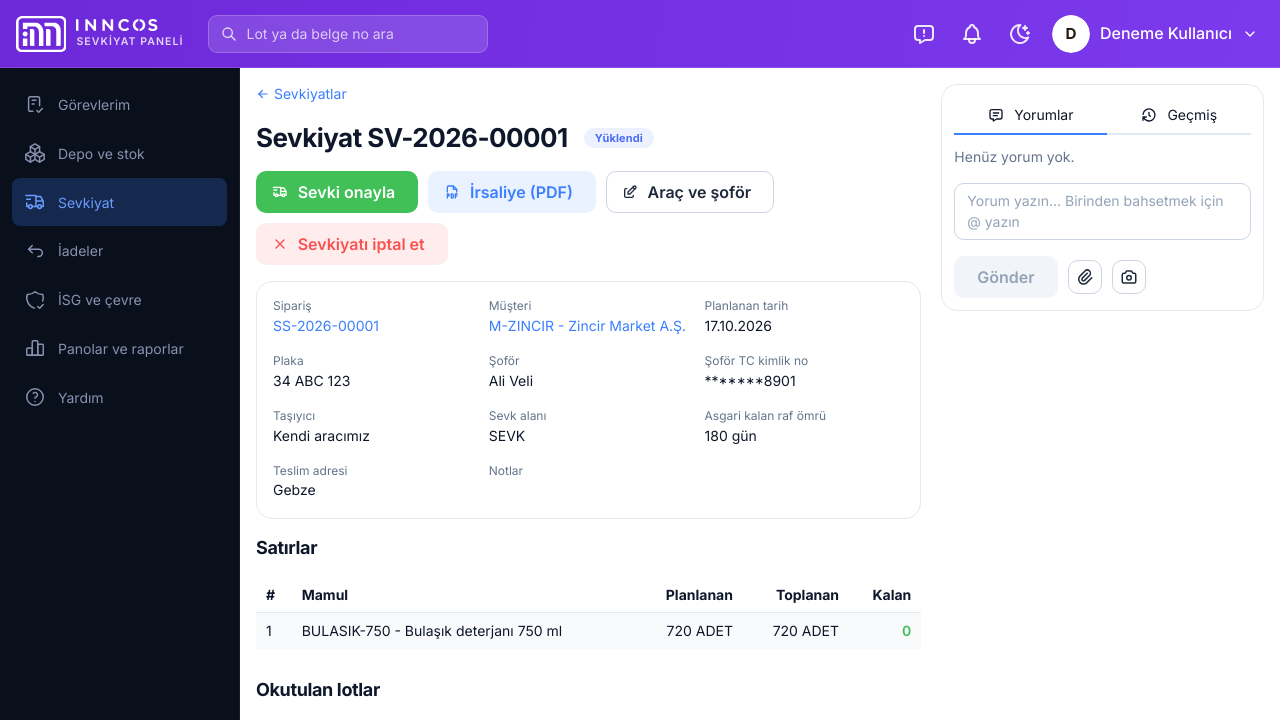
sevkiyat detayı › şoför TC no maskeli görünür; yüklenen sevkiyatı sevkiyat onaylar, irsaliye açılır
This screenshot has width=1280, height=720.
Check: the text with test id "driver-id" reads "*******8901", box [704,372,796,389]
Click the button "Sevki onayla": coordinates (337, 192) [256,171,418,213]
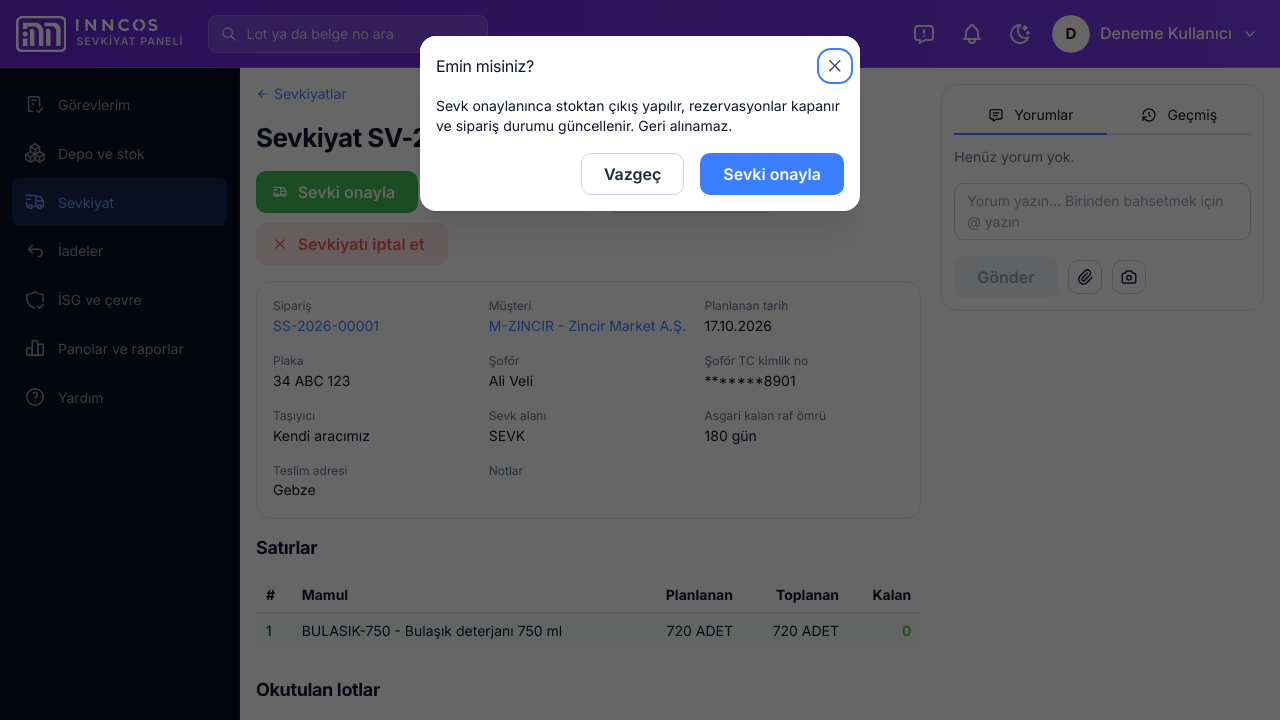
Click the button "Sevki onayla": coordinates (772, 174) [700,153,844,195]
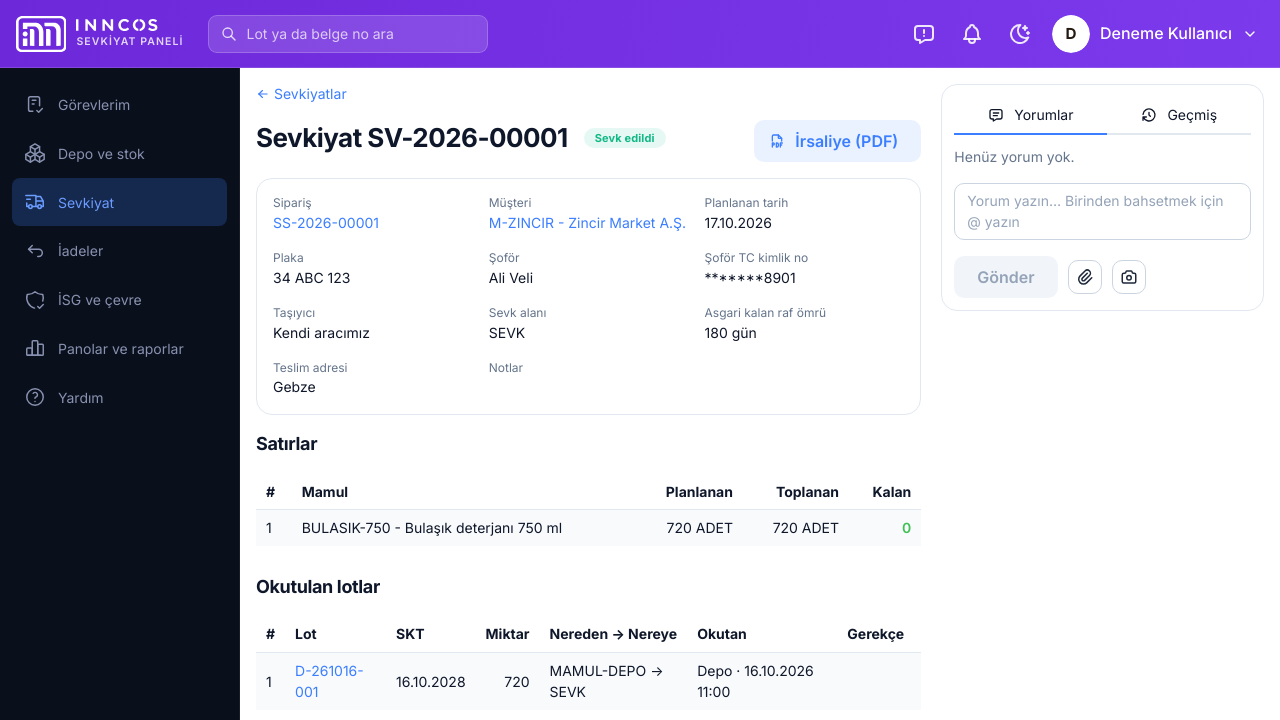
Check: the text "Sevk edildi" is shown, box [595,129,655,147]
